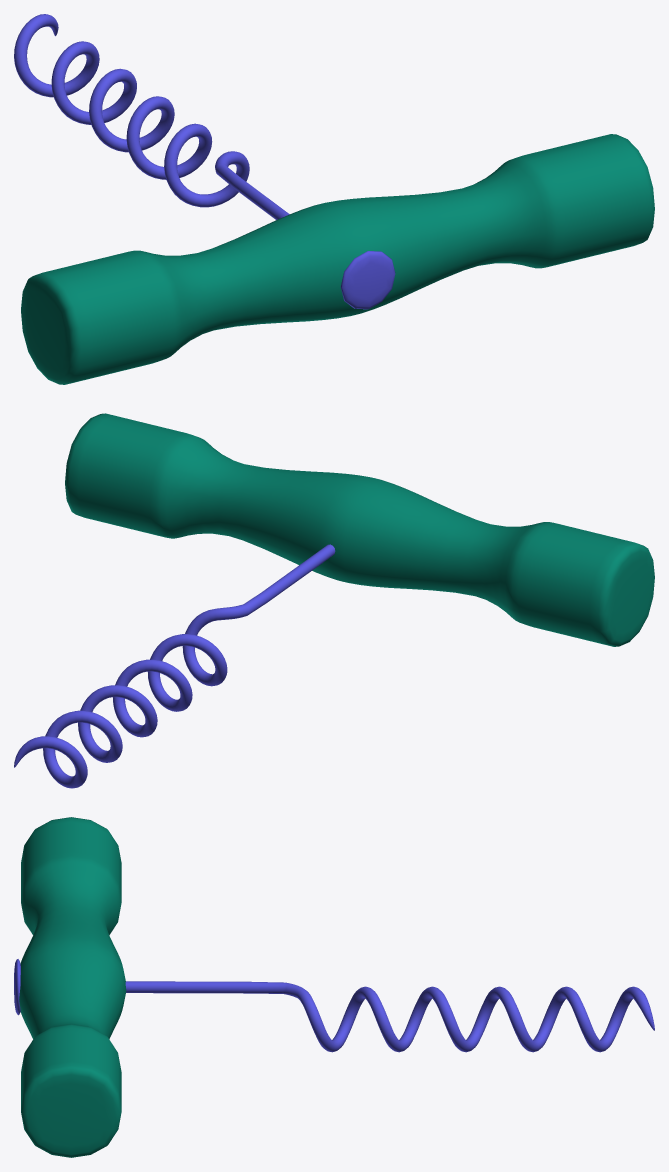
The model's file is bottle-screw_obj.obj.
The picture shows the model from 3 angles, top to bottom: view 1: azimuth 30°, elevation 25°; view 2: azimuth 150°, elevation 25°; view 3: azimuth 270°, elevation 25°; orthographic projection. The views are drawn at different scales.
Parts seen in each view (by area): view 1: Box001, Spring001; view 2: Box001, Spring001; view 3: Box001, Spring001.
Part boxes in pixels (bbox=[...]): Box001: bbox=[21, 134, 654, 384]; Spring001: bbox=[14, 14, 395, 309]; Box001: bbox=[65, 413, 654, 646]; Spring001: bbox=[14, 544, 335, 788]; Box001: bbox=[19, 817, 126, 1157]; Spring001: bbox=[14, 959, 654, 1052].
Size of the model in its own units: 11.22 by 2.05 by 11.91.
